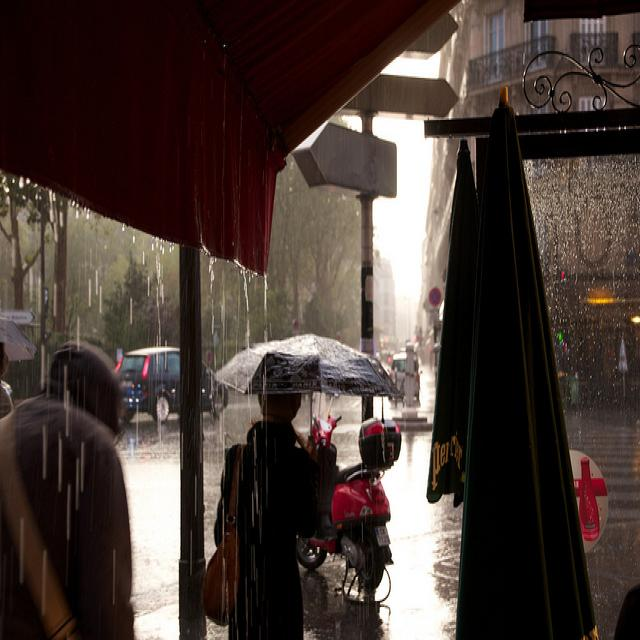motor: (294, 392, 402, 597)
